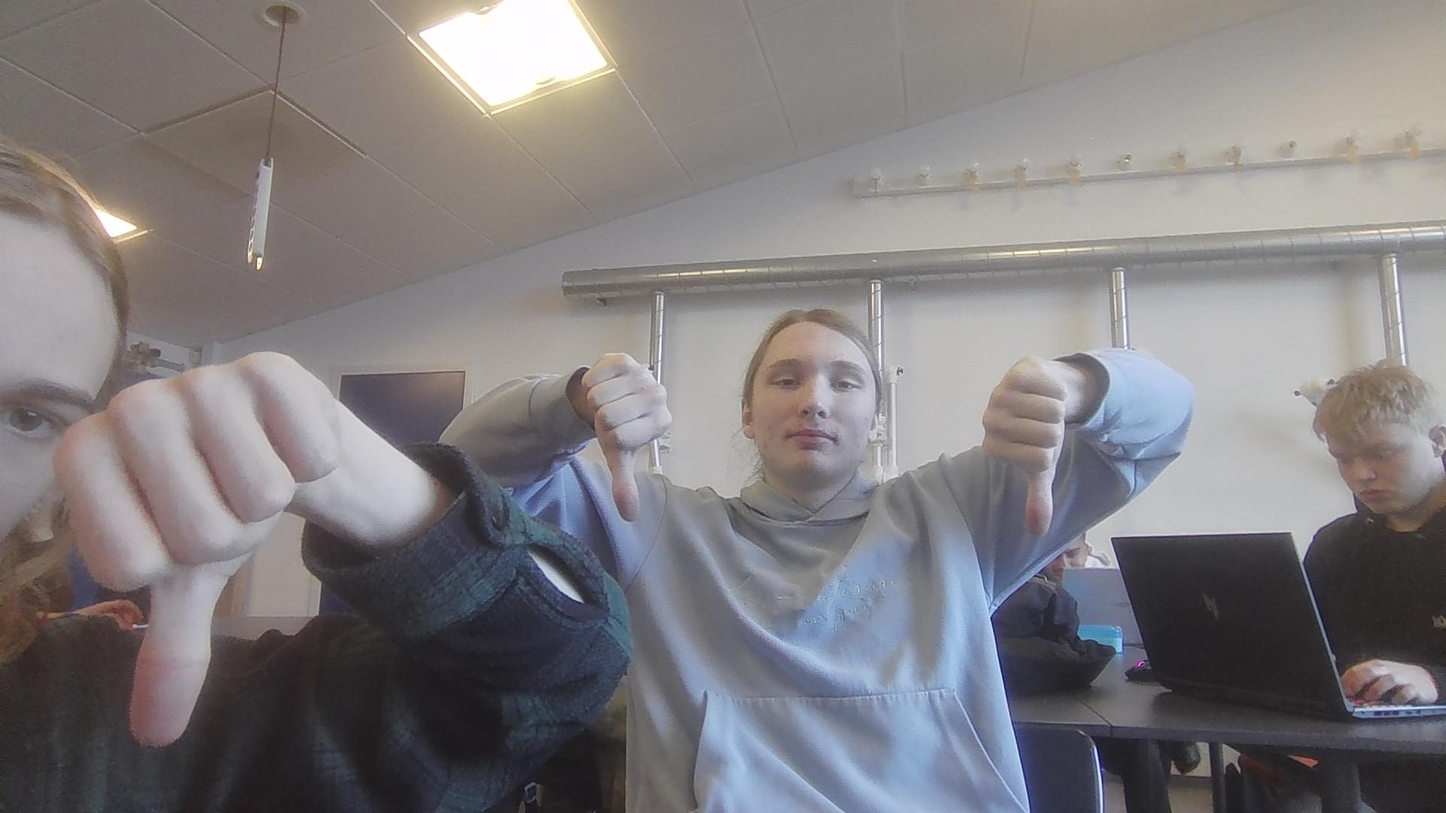thumbs down: (43, 349, 337, 753), (979, 347, 1076, 543), (584, 351, 675, 522)
